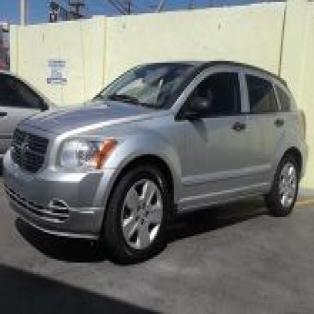Auto: (3, 56, 308, 266)
